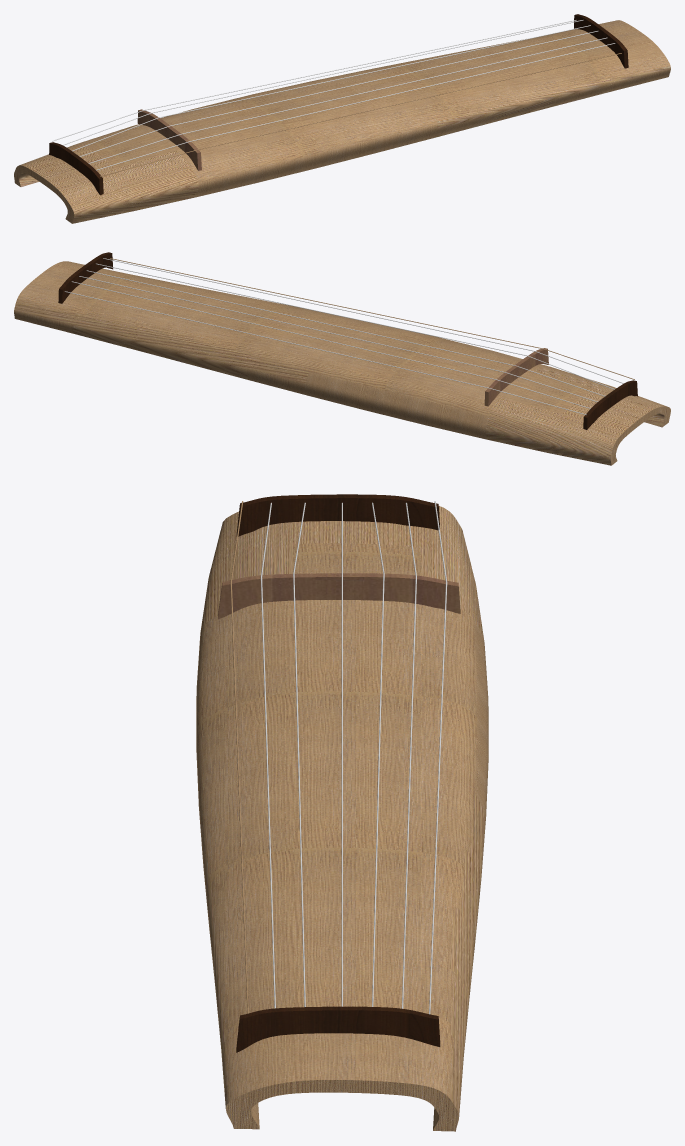
Rendered from Guqin.fbx.
The picture shows the model from 3 angles, top to bottom: view 1: azimuth 30°, elevation 25°; view 2: azimuth 150°, elevation 25°; view 3: azimuth 270°, elevation 25°; orthographic projection. The views are drawn at different scales.
Visible parts, largest first — view 1: Line01; view 2: Line01; view 3: Line01.
Boxes of the visible parts, left/top/right/bottom form: Line01: left=14, top=14, right=670, bottom=223; Line01: left=14, top=252, right=670, bottom=465; Line01: left=196, top=494, right=488, bottom=1131.
Size of the model in its own units: 24247 by 1909 by 5137.
Materials: 4 (4 with a texture image).
